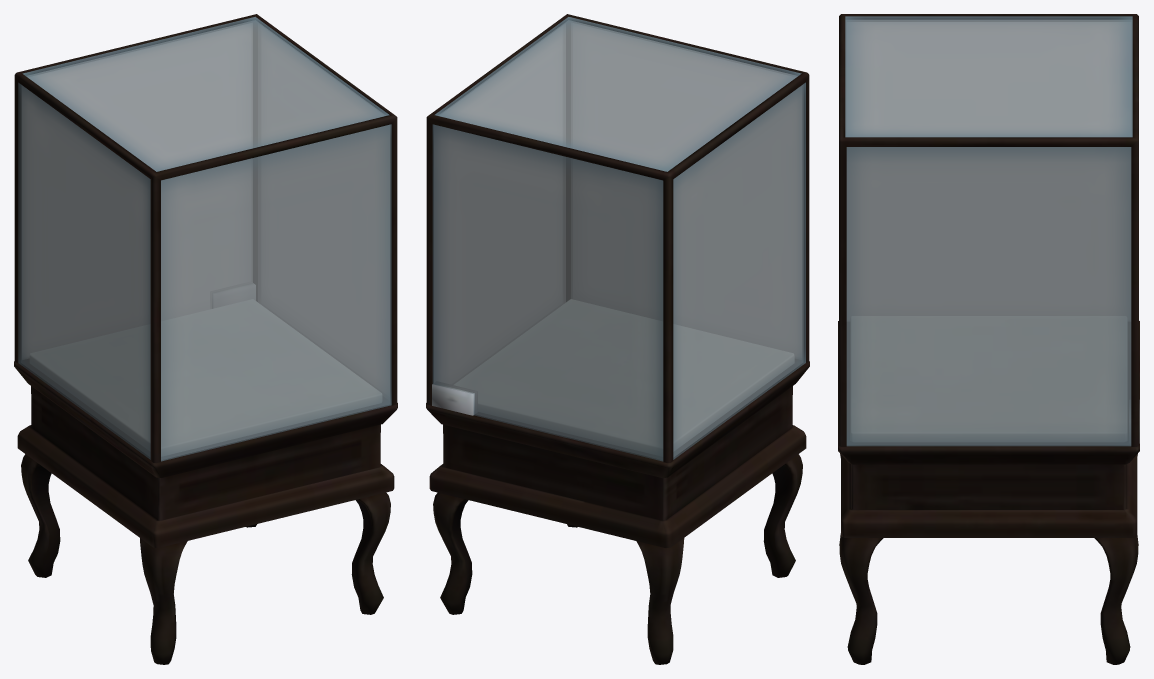
3 renders of one model, left to right at view 1: azimuth 30°, elevation 25°; view 2: azimuth 150°, elevation 25°; view 3: azimuth 270°, elevation 25°, orthographic. The views are drawn at different scales.
Size of the model in its own units: 10 by 19.41 by 10.
Materials: 3 (3 with a texture image).
